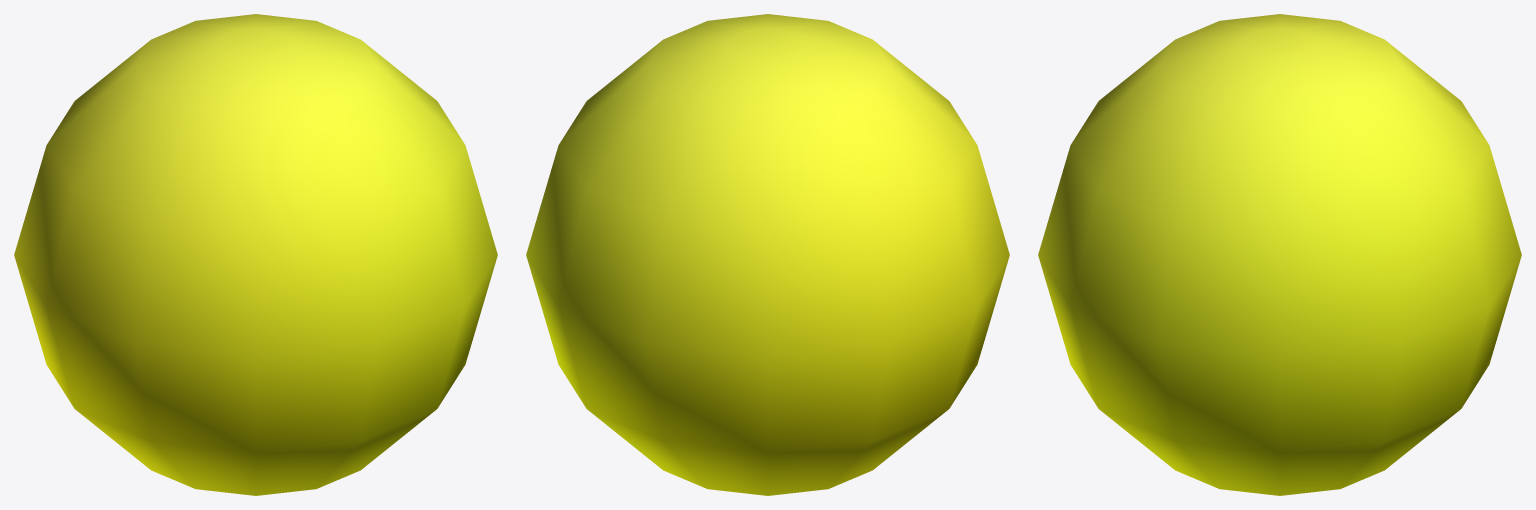
The model's file is Volleyball_B.fbx.
3 renders of one model, left to right at view 1: azimuth 30°, elevation 25°; view 2: azimuth 150°, elevation 25°; view 3: azimuth 270°, elevation 25°, orthographic.
Parts seen in each view (by area): view 1: Volleyball_B; view 2: Volleyball_B; view 3: Volleyball_B.
Boxes of the visible parts, <box> form: Volleyball_B: <box>14,14,497,495</box>; Volleyball_B: <box>526,14,1009,495</box>; Volleyball_B: <box>1038,14,1521,495</box>.
Size of the model in its own units: 33.6 by 32.1 by 33.6.
